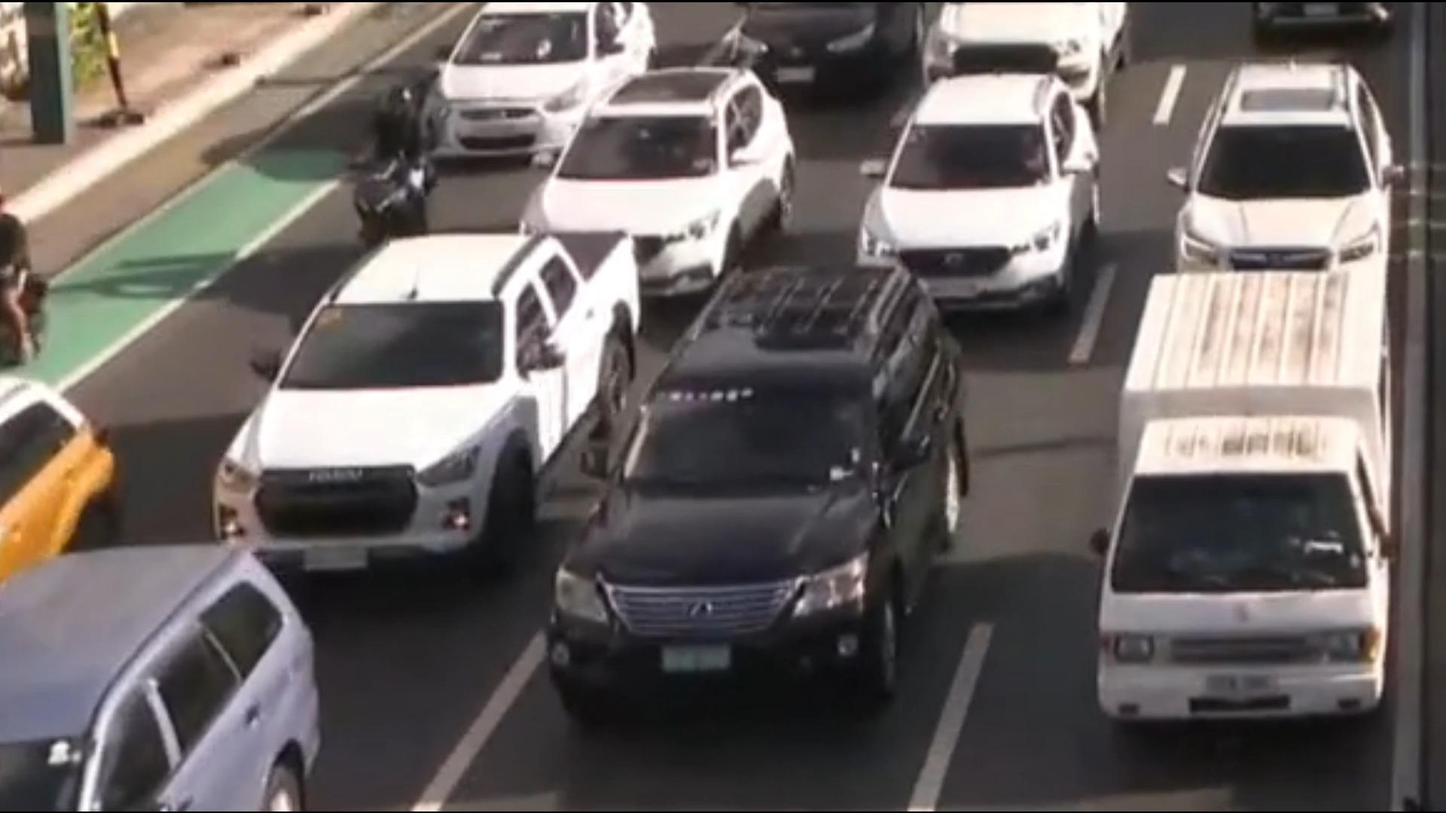Motorcycle: (350, 66, 463, 267)
Multicab: (1090, 273, 1397, 741)
Pickup: (203, 226, 659, 580)
SUV: (554, 265, 958, 702), (0, 538, 320, 813), (523, 68, 781, 297), (1171, 56, 1406, 279), (866, 75, 1092, 301), (919, 0, 1130, 92)
Sedan: (422, 0, 644, 151)
